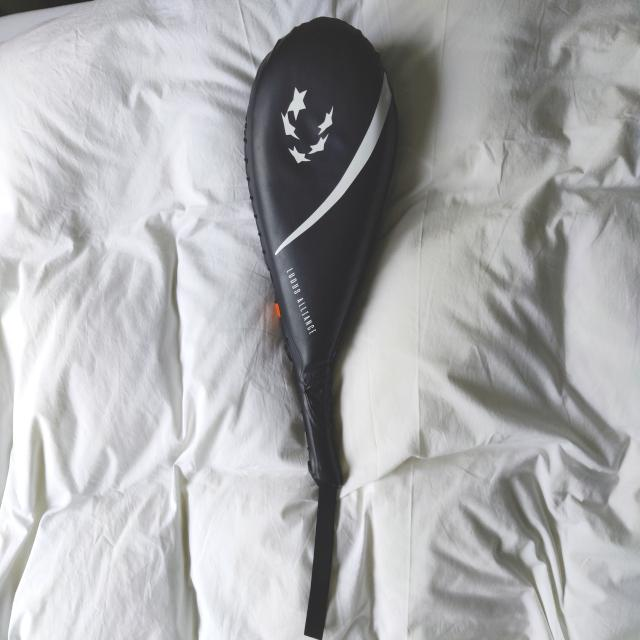paddle: (242, 13, 401, 490)
